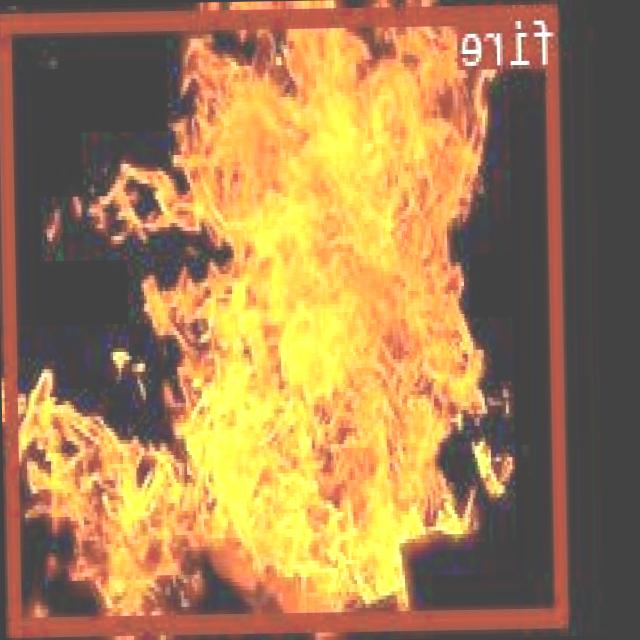fire: (1, 1, 571, 634)
